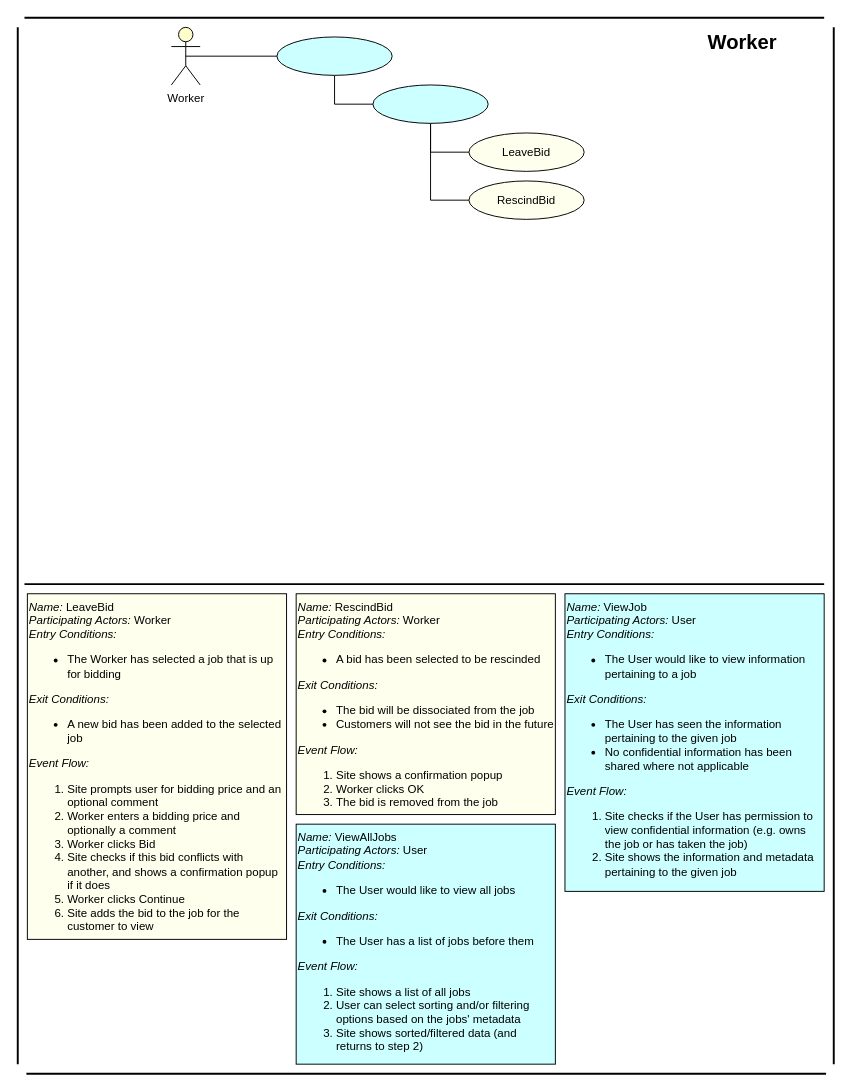
Some shapes in this 852 by 1092 pixel diagram are drawn without their labels. The shapes that lost their labels are listed below. From the top down, each one's centre as x and y in pixels, then its label:
At [334,55]: "ViewAllJobs".
At [430,103]: "ViewJob".
